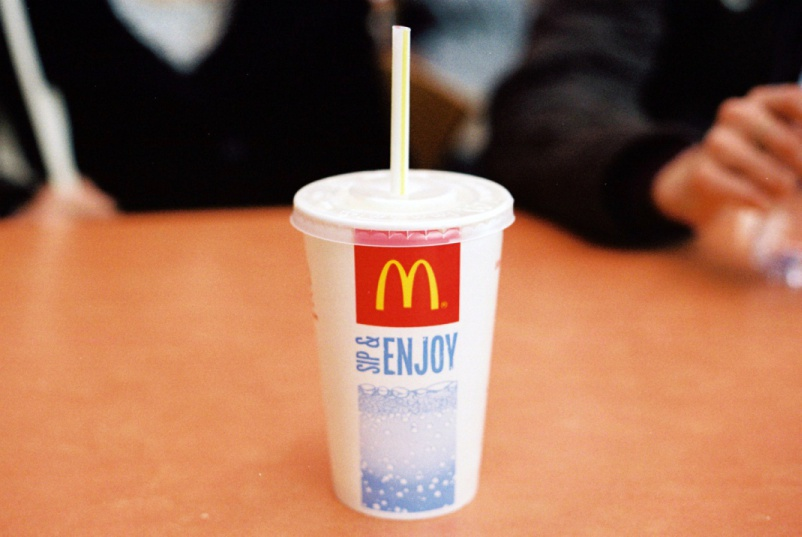mcdonalds: (373, 257, 441, 313)
